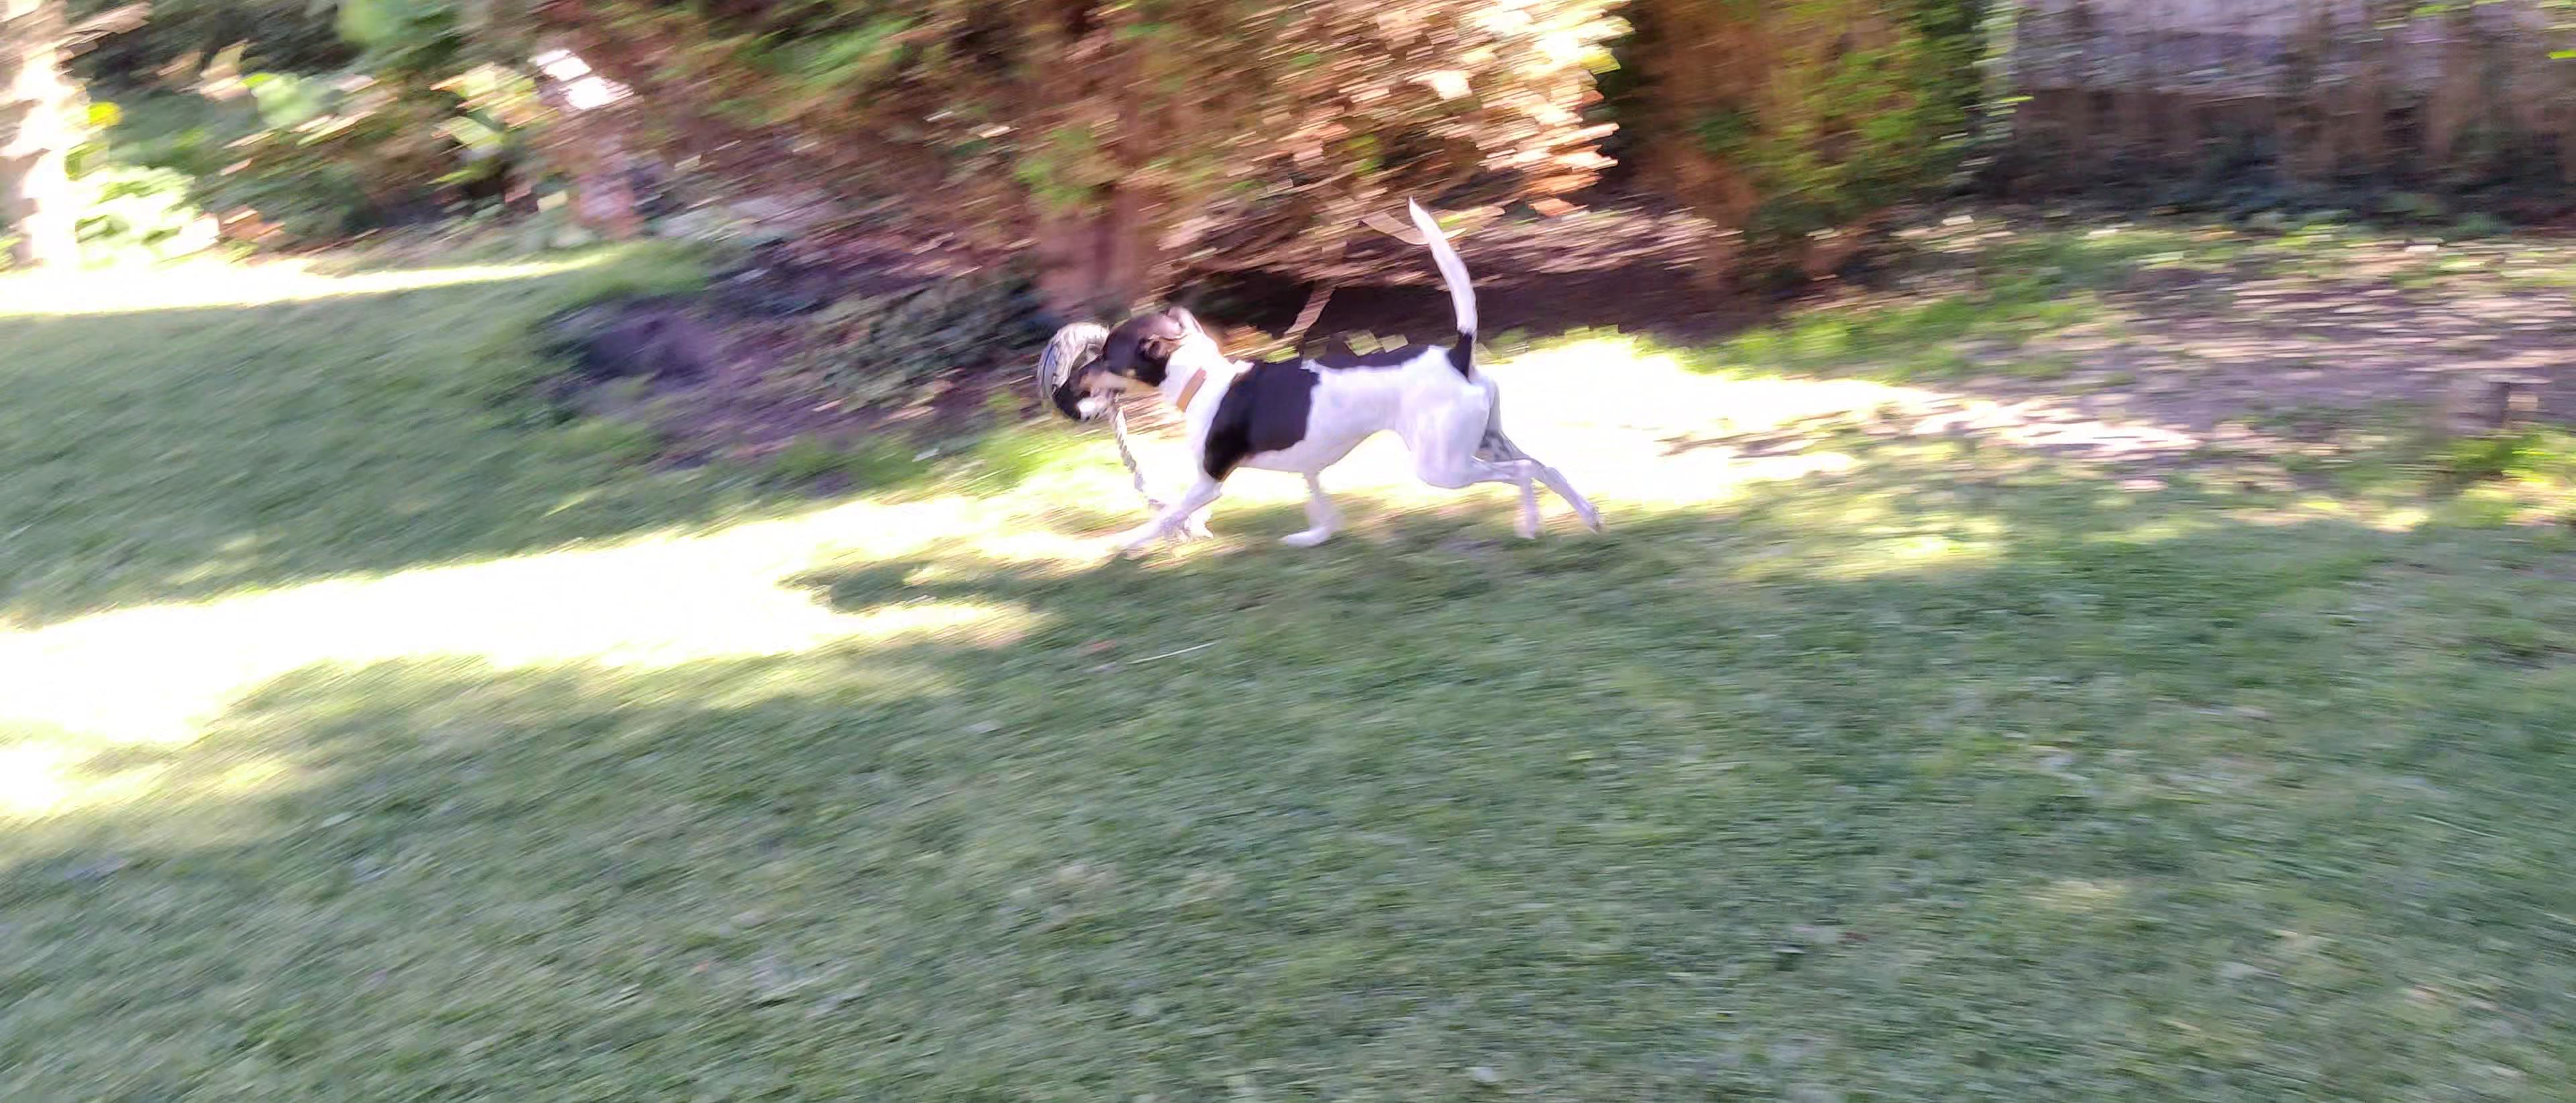Dog: (1061, 192, 1607, 547)
